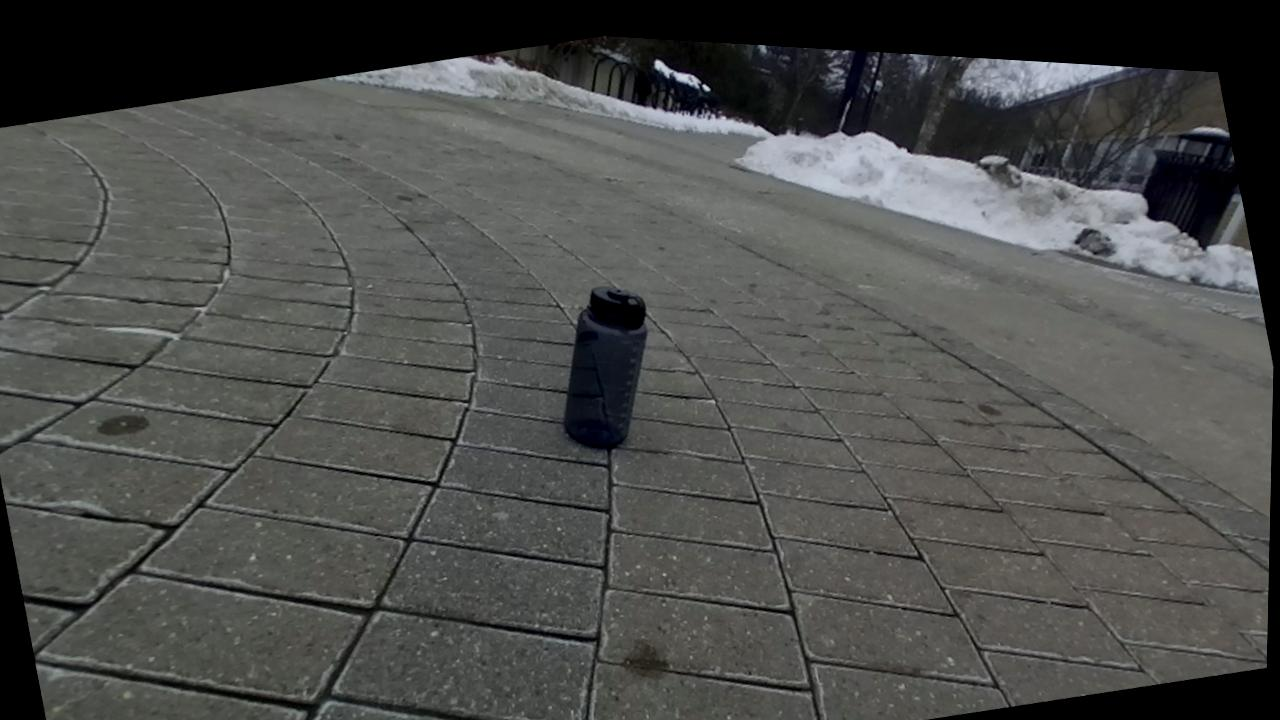bottle: (562, 286, 645, 447)
